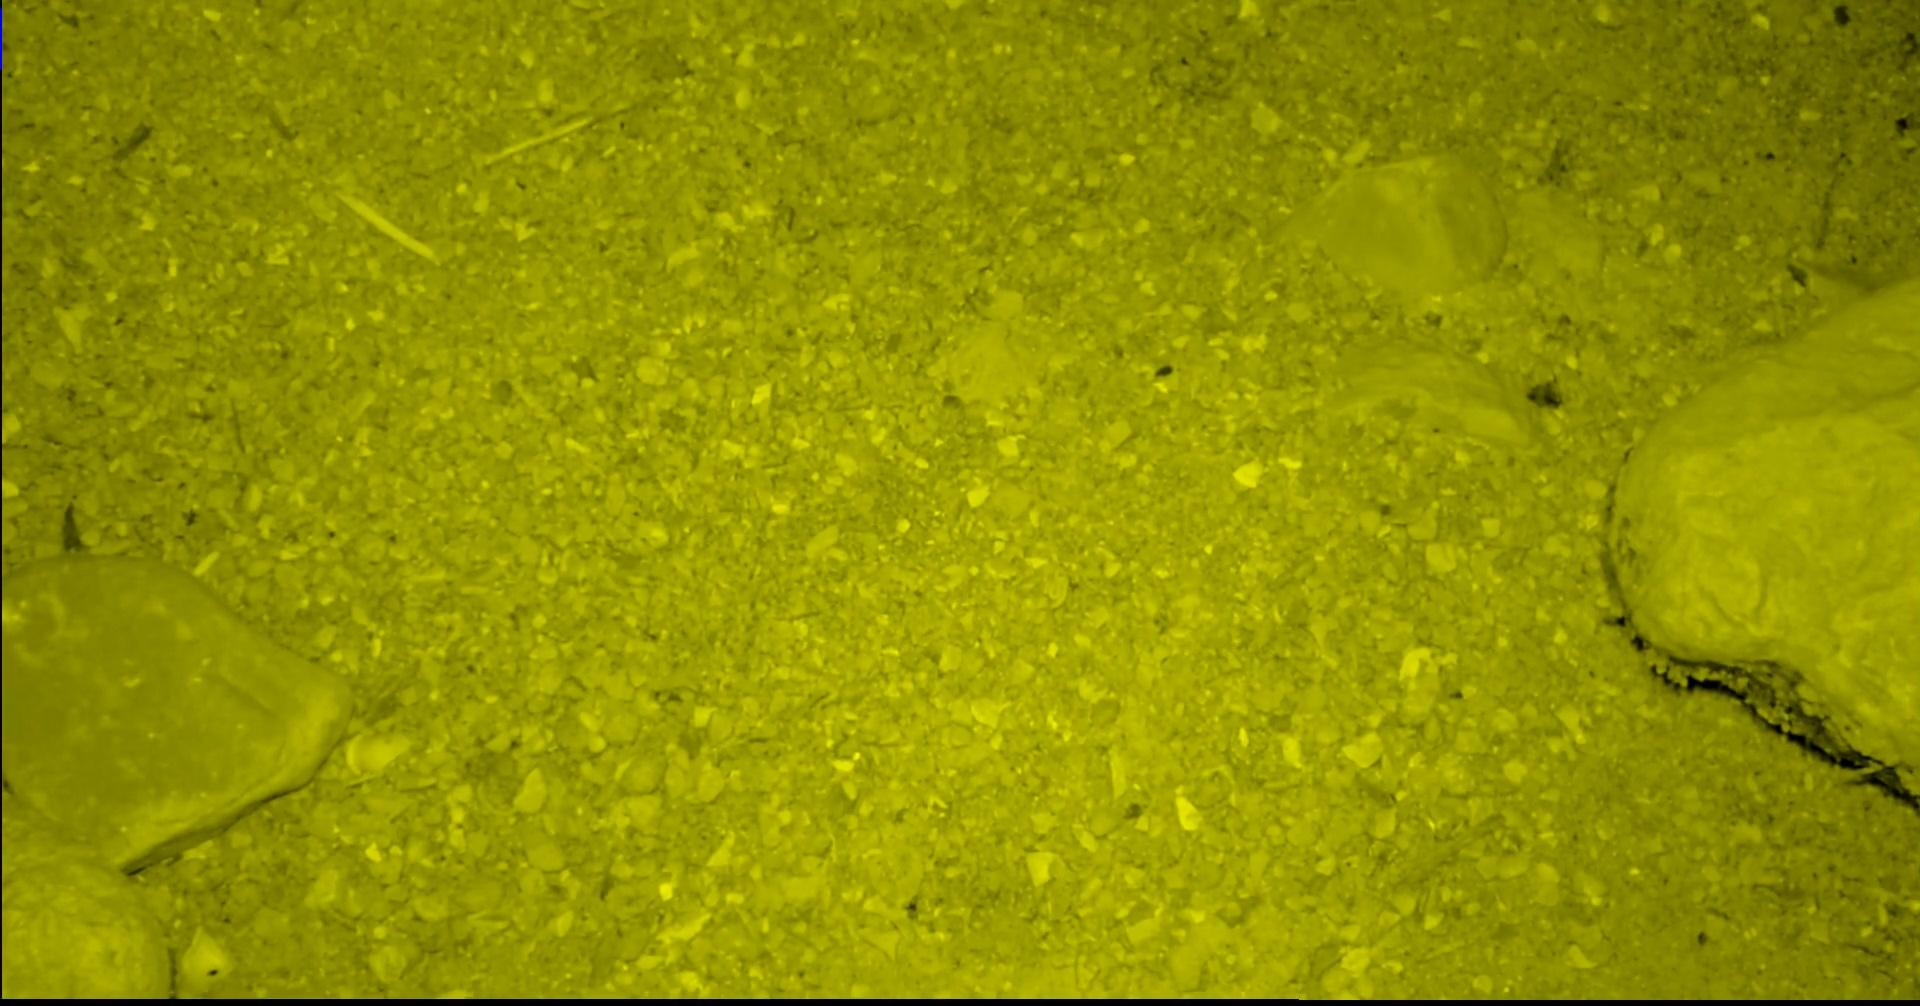ant: (0, 6, 3, 70)
